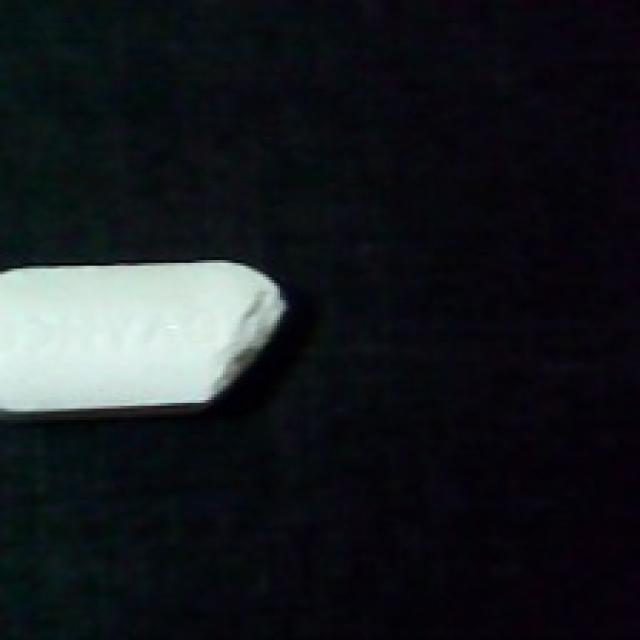defected: (0, 249, 291, 429)
